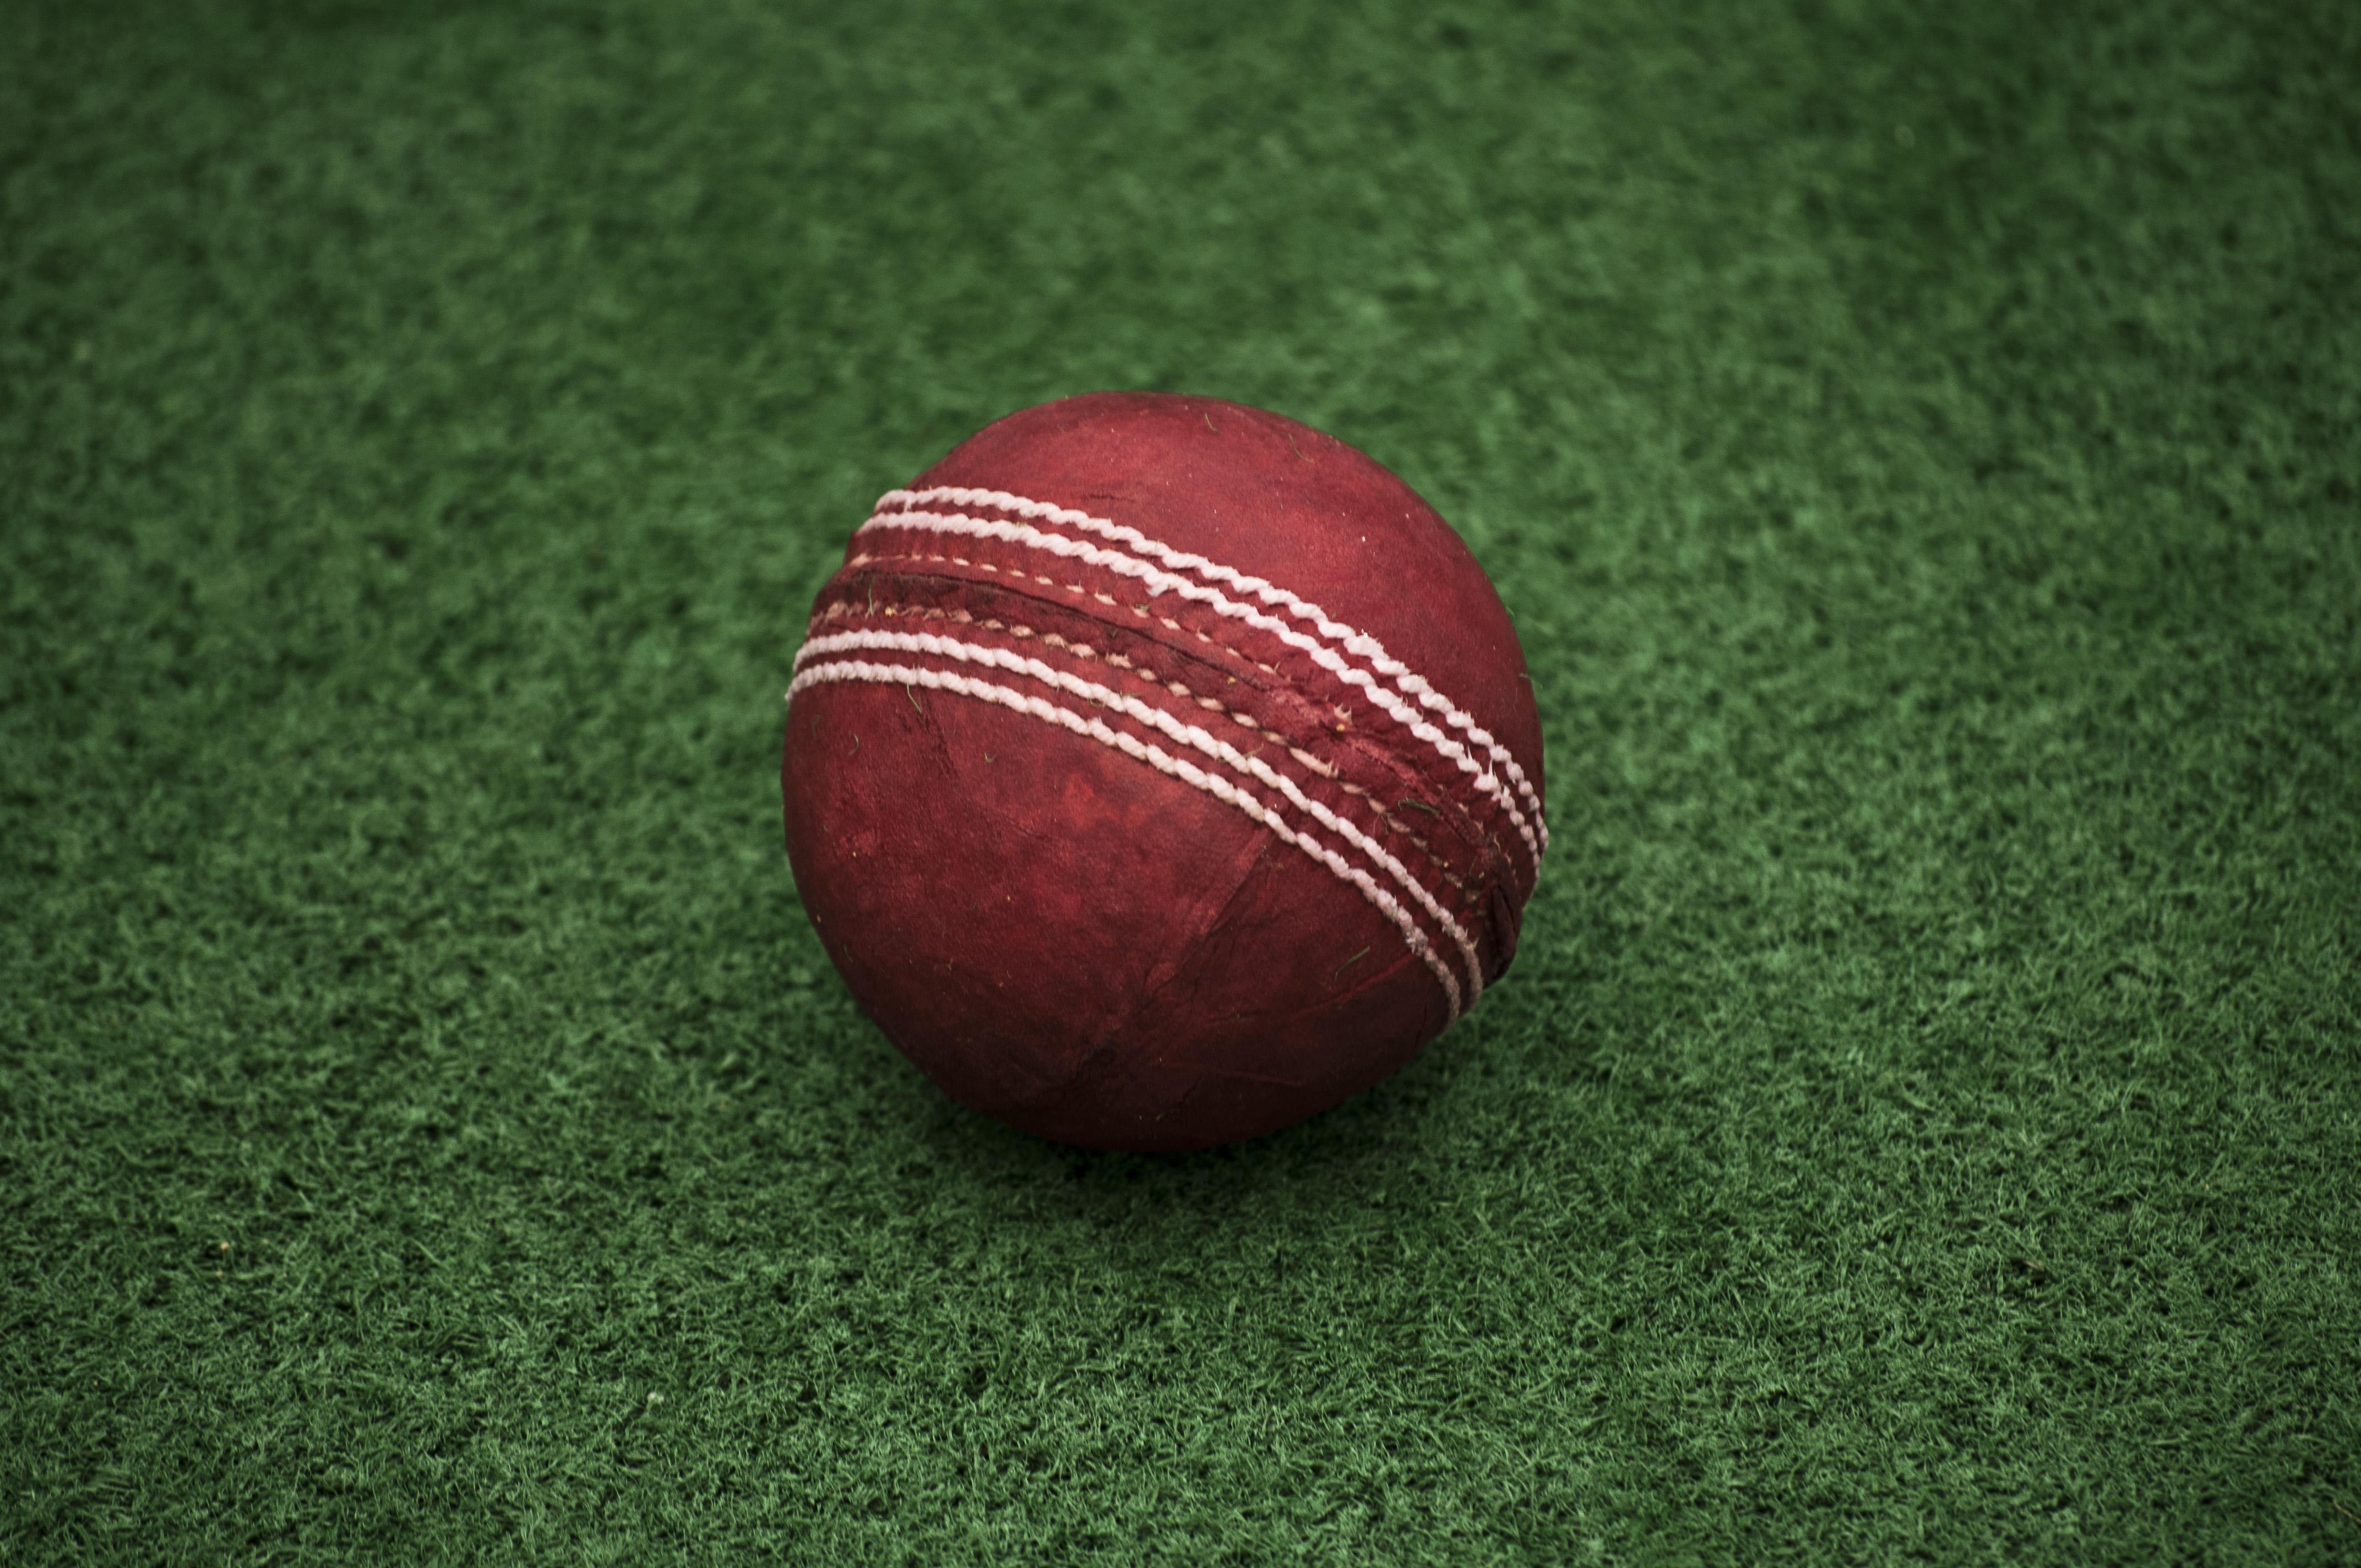Red_Ball: (749, 329, 1573, 1190)
